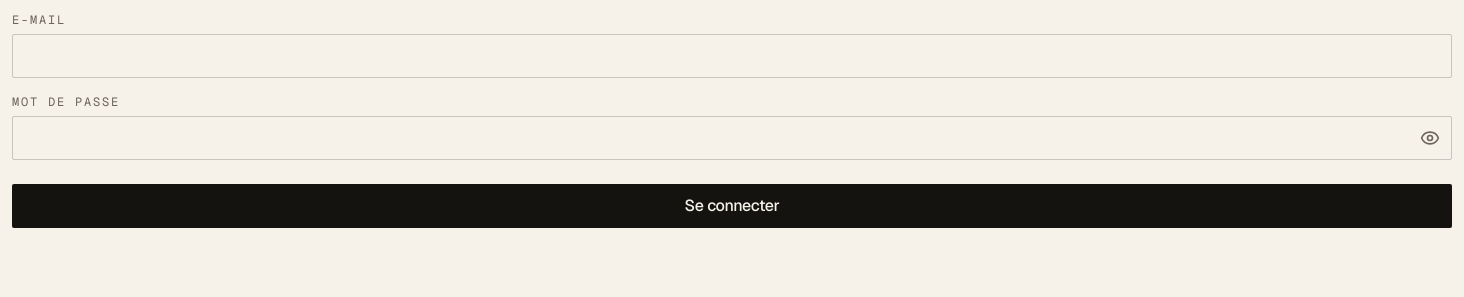
it: LoginForm › affiche des erreurs quand les champs sont vides
Click the button "Se connecter".
click(732, 206)  # box 12,184 -> 1452,228
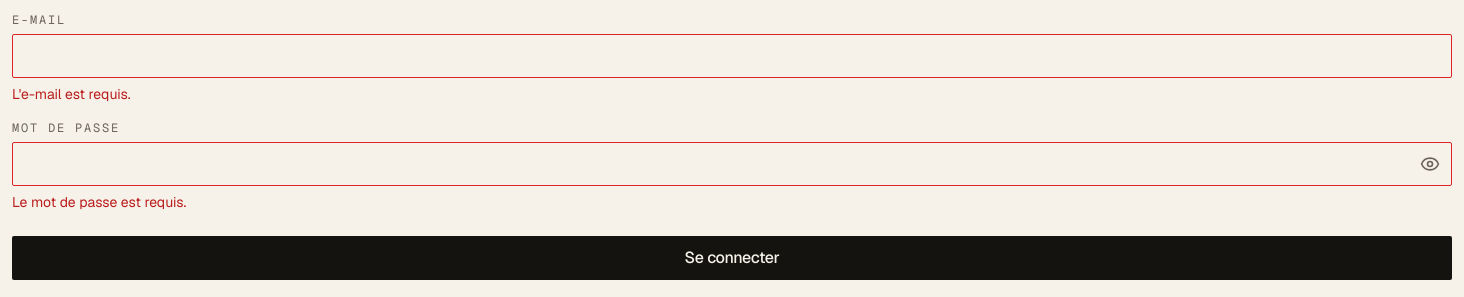
Check: the text "L'e-mail est requis." is shown, box 12,85 -> 131,103
Check: the text "Le mot de passe est requis." is shown, box 12,193 -> 186,211
